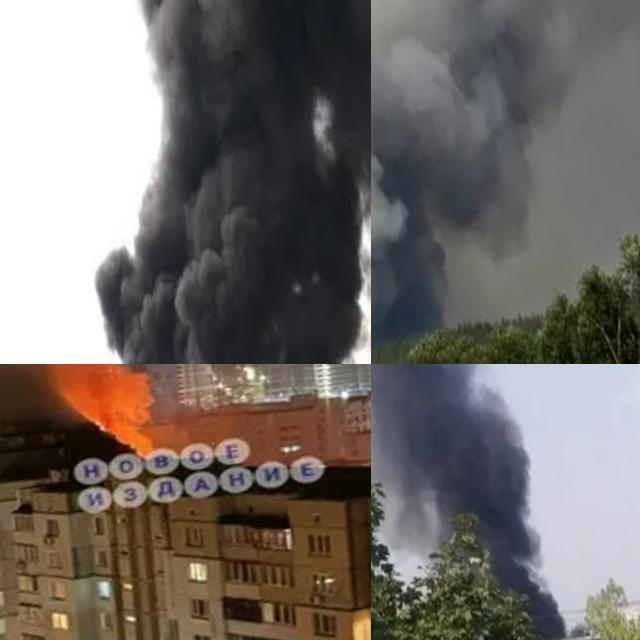smoke: (22, 0, 371, 364), (371, 0, 585, 350), (371, 364, 575, 640), (0, 364, 166, 499)
